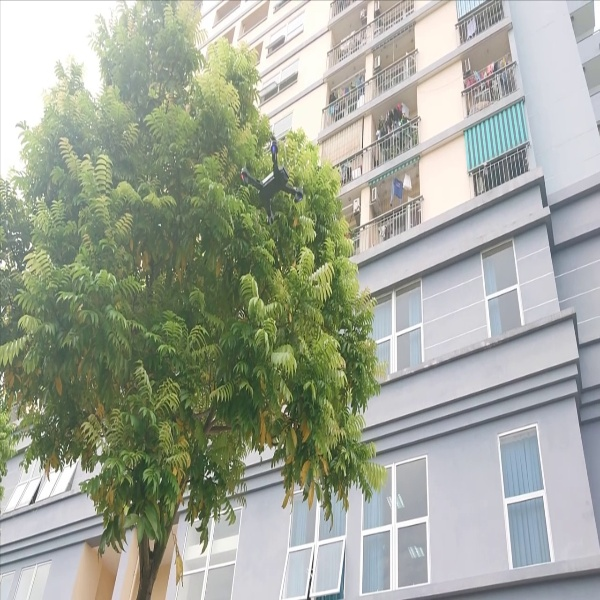drone: (234, 131, 313, 221)
